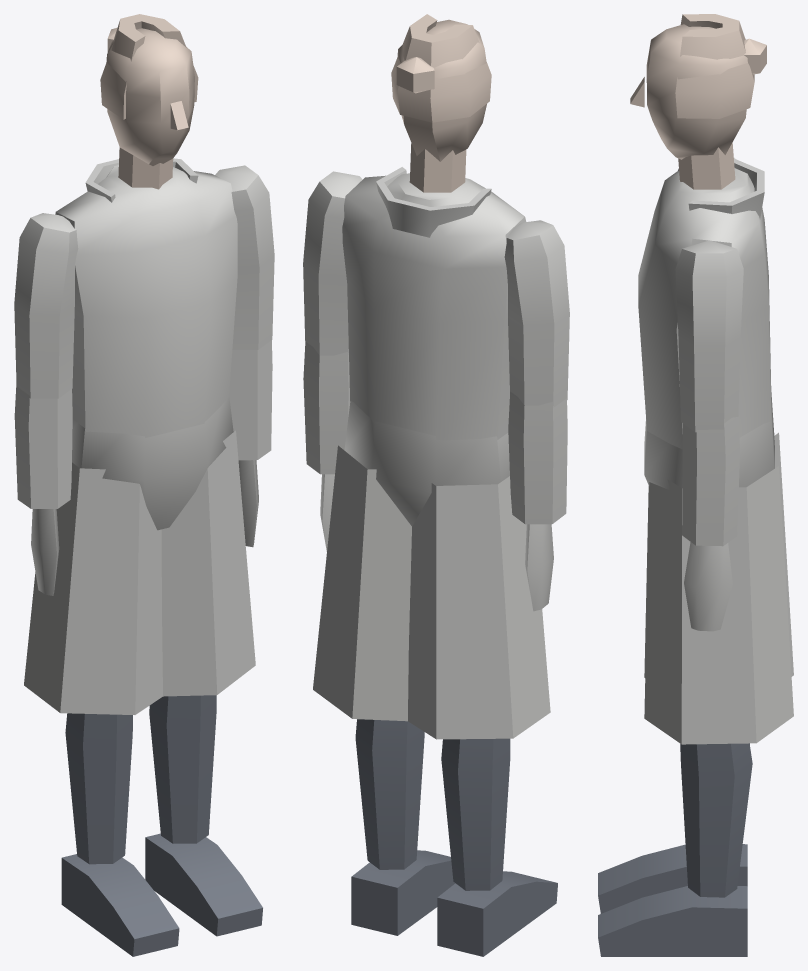
The model's file is astrom.glb.
The picture shows the model from 3 angles, left to right: view 1: azimuth 30°, elevation 25°; view 2: azimuth 150°, elevation 25°; view 3: azimuth 270°, elevation 25°; orthographic projection. The views are drawn at different scales.
Parts seen in each view (by area): view 1: torso, leg_r, leg_l, shin_r, shin_l, head, arm_r, hips, forearm_r, arm_l, forearm_l; view 2: torso, leg_r, leg_l, shin_r, shin_l, head, arm_r, hips, forearm_r, arm_l, forearm_l; view 3: leg_l, torso, shin_l, head, arm_l, forearm_l, shin_r, hips, leg_r.
Boxes of the visible parts, bbox=[...] form: torso: bbox=[55, 158, 237, 437]; leg_r: bbox=[24, 462, 162, 714]; leg_l: bbox=[161, 430, 255, 696]; shin_r: bbox=[61, 713, 179, 956]; shin_l: bbox=[145, 695, 262, 936]; head: bbox=[100, 14, 198, 189]; arm_r: bbox=[14, 213, 78, 398]; hips: bbox=[72, 395, 233, 530]; forearm_r: bbox=[14, 385, 72, 595]; arm_l: bbox=[215, 165, 274, 349]; forearm_l: bbox=[229, 340, 272, 547]; torso: bbox=[342, 167, 526, 440]; leg_r: bbox=[408, 476, 550, 739]; leg_l: bbox=[313, 445, 411, 721]; shin_r: bbox=[437, 738, 557, 956]; shin_l: bbox=[351, 719, 455, 935]; head: bbox=[391, 14, 491, 192]; arm_r: bbox=[504, 220, 569, 407]; hips: bbox=[344, 400, 509, 526]; forearm_r: bbox=[508, 391, 567, 611]; arm_l: bbox=[303, 171, 362, 357]; forearm_l: bbox=[303, 341, 350, 551]; leg_l: bbox=[644, 466, 793, 744]; torso: bbox=[638, 158, 771, 449]; shin_l: bbox=[598, 743, 752, 956]; head: bbox=[630, 14, 766, 189]; arm_l: bbox=[675, 240, 743, 432]; forearm_l: bbox=[682, 417, 739, 631]; shin_r: bbox=[598, 743, 749, 913]; hips: bbox=[644, 392, 774, 490]; leg_r: bbox=[644, 432, 793, 677].
Size of the model in its own units: 0.4859 by 1.66 by 0.3275.
